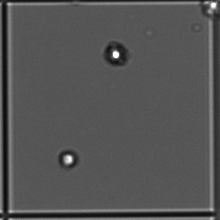Living Cell: (102, 40, 131, 69), (55, 148, 80, 170), (201, 1, 220, 15)
